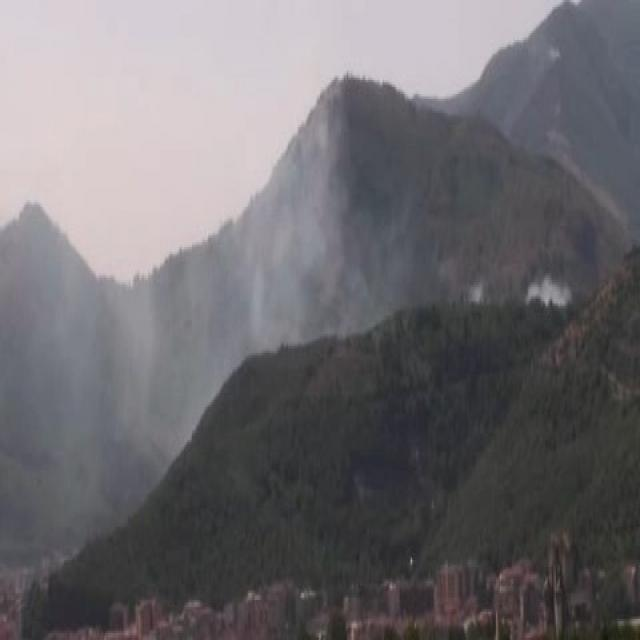smoke: (41, 286, 198, 444), (227, 175, 344, 345)
